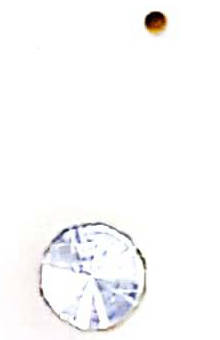abnormal: (6, 201, 161, 338)
normal: (138, 4, 177, 44)
